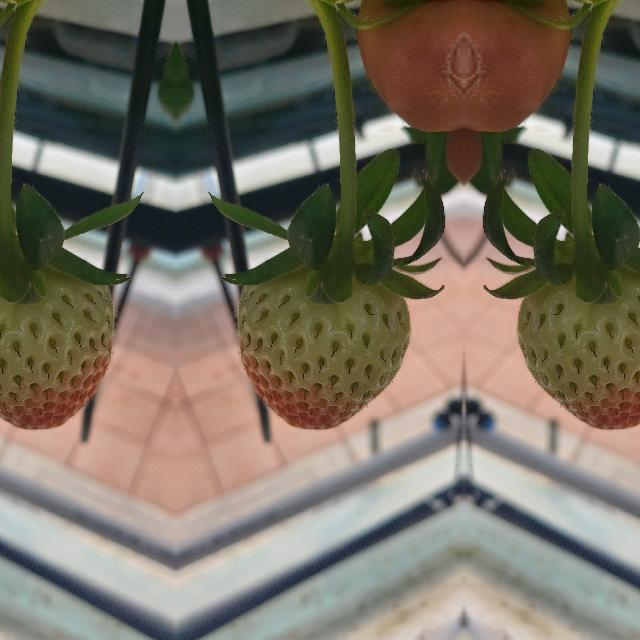Health_50: (235, 266, 409, 428), (517, 265, 640, 428), (0, 265, 115, 428)
